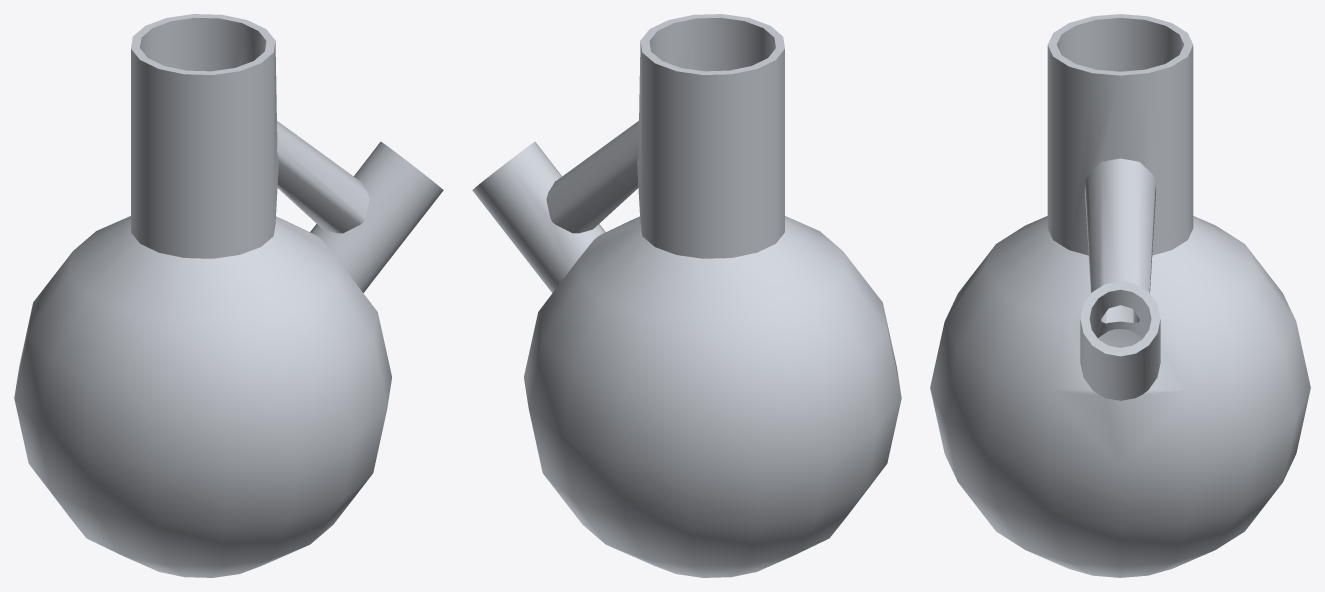
Rendered from bottle_glassware_straus_flask_large.glb.
3 views of the same model, side by side, from view 1: azimuth 30°, elevation 25°; view 2: azimuth 150°, elevation 25°; view 3: azimuth 270°, elevation 25° (orthographic).
Parts seen in each view (by area): view 1: bottle_glassware_straus_flask_large; view 2: bottle_glassware_straus_flask_large; view 3: bottle_glassware_straus_flask_large.
Boxes of the visible parts, x1,y1,x2,y2 form: bottle_glassware_straus_flask_large: (14, 14, 443, 577); bottle_glassware_straus_flask_large: (472, 14, 901, 577); bottle_glassware_straus_flask_large: (930, 14, 1310, 577).
Bounding box in the file's own units: 20.26 × 25.06 × 16.78.
Materials: 1 (1 with a texture image).
